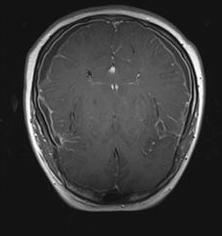Normal_Brain: (1, 1, 222, 236)
